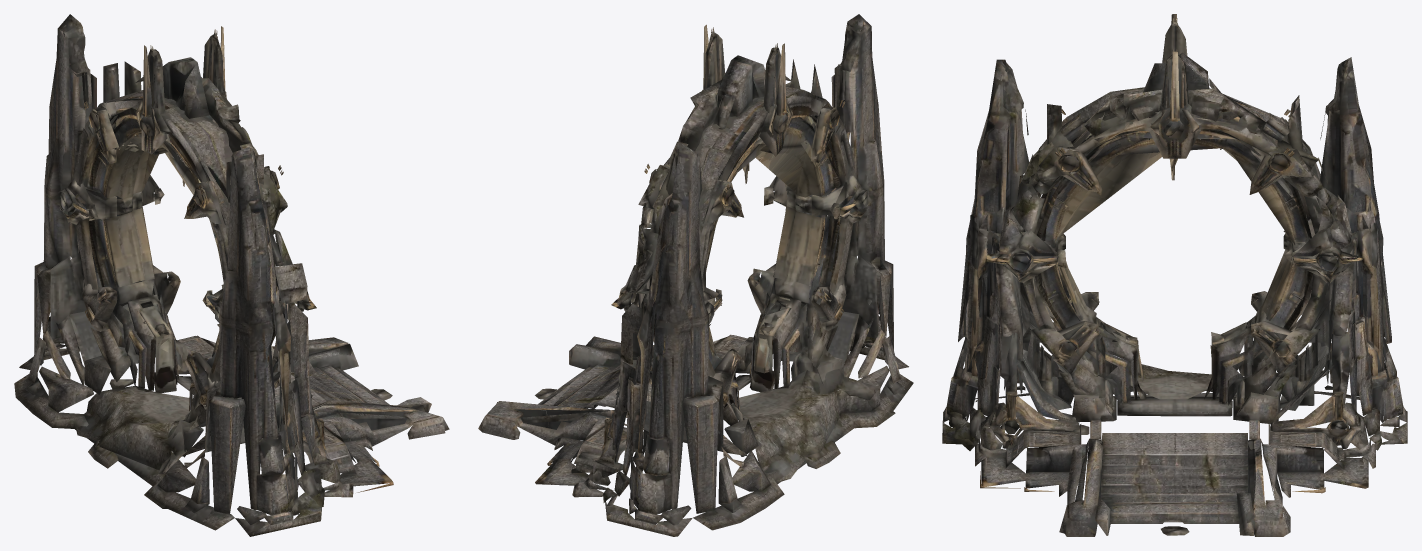
Rendered from monument_ancient_stargate.glb.
The picture shows the model from 3 angles, left to right: view 1: azimuth 30°, elevation 25°; view 2: azimuth 150°, elevation 25°; view 3: azimuth 270°, elevation 25°; orthographic projection.
Parts seen in each view (by area): view 1: tripo_71ed4b6e_73e5_4f26_8901_ffe9dbb5d730; view 2: tripo_71ed4b6e_73e5_4f26_8901_ffe9dbb5d730; view 3: tripo_71ed4b6e_73e5_4f26_8901_ffe9dbb5d730.
Part boxes in pixels (x1,y1,x2,y2): tripo_71ed4b6e_73e5_4f26_8901_ffe9dbb5d730: (14,14,449,536); tripo_71ed4b6e_73e5_4f26_8901_ffe9dbb5d730: (478,14,913,536); tripo_71ed4b6e_73e5_4f26_8901_ffe9dbb5d730: (942,14,1407,536).
Bounding box in the file's own units: 0.7348 × 0.9566 × 0.9995.
Materials: 1 (1 with a texture image).
